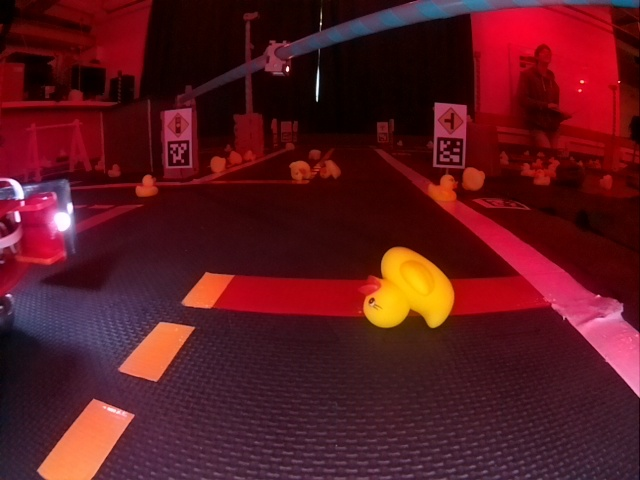Duckie: (364, 247, 454, 327), (428, 176, 457, 199), (462, 167, 484, 190), (137, 175, 158, 196), (290, 161, 311, 179), (320, 161, 339, 178), (211, 156, 225, 171), (107, 164, 121, 176), (229, 151, 241, 164), (309, 148, 319, 160)
Duckiebot: (1, 176, 72, 316)
Intersection sign: (436, 104, 463, 135)
QR code: (435, 137, 464, 166), (166, 141, 191, 167), (474, 197, 527, 209)
Signal sign: (166, 110, 189, 137)
Traffic light: (264, 41, 291, 75)
